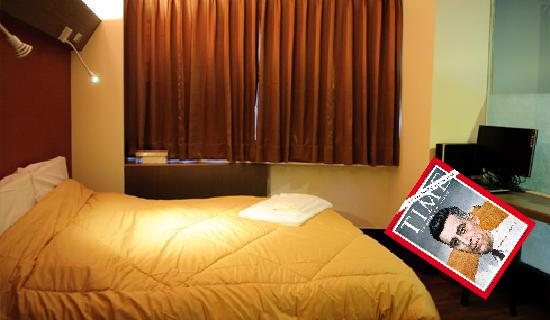times: (379, 155, 537, 300)
